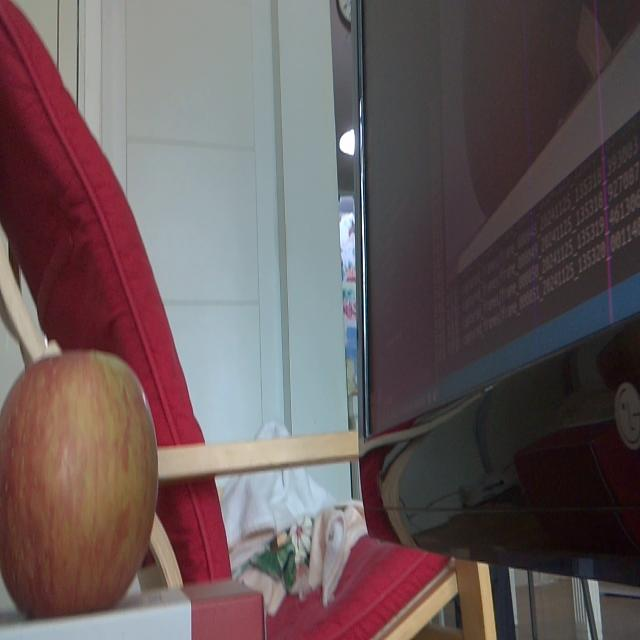apple: (0, 350, 158, 600)
